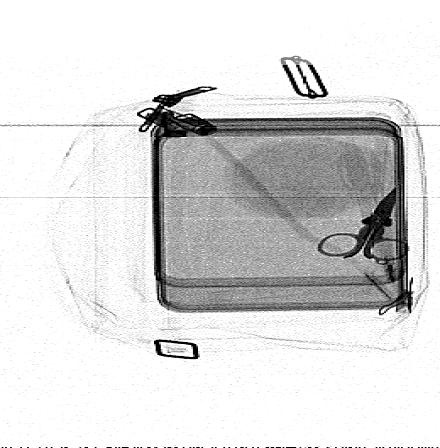Scissors: (315, 187, 411, 266)
